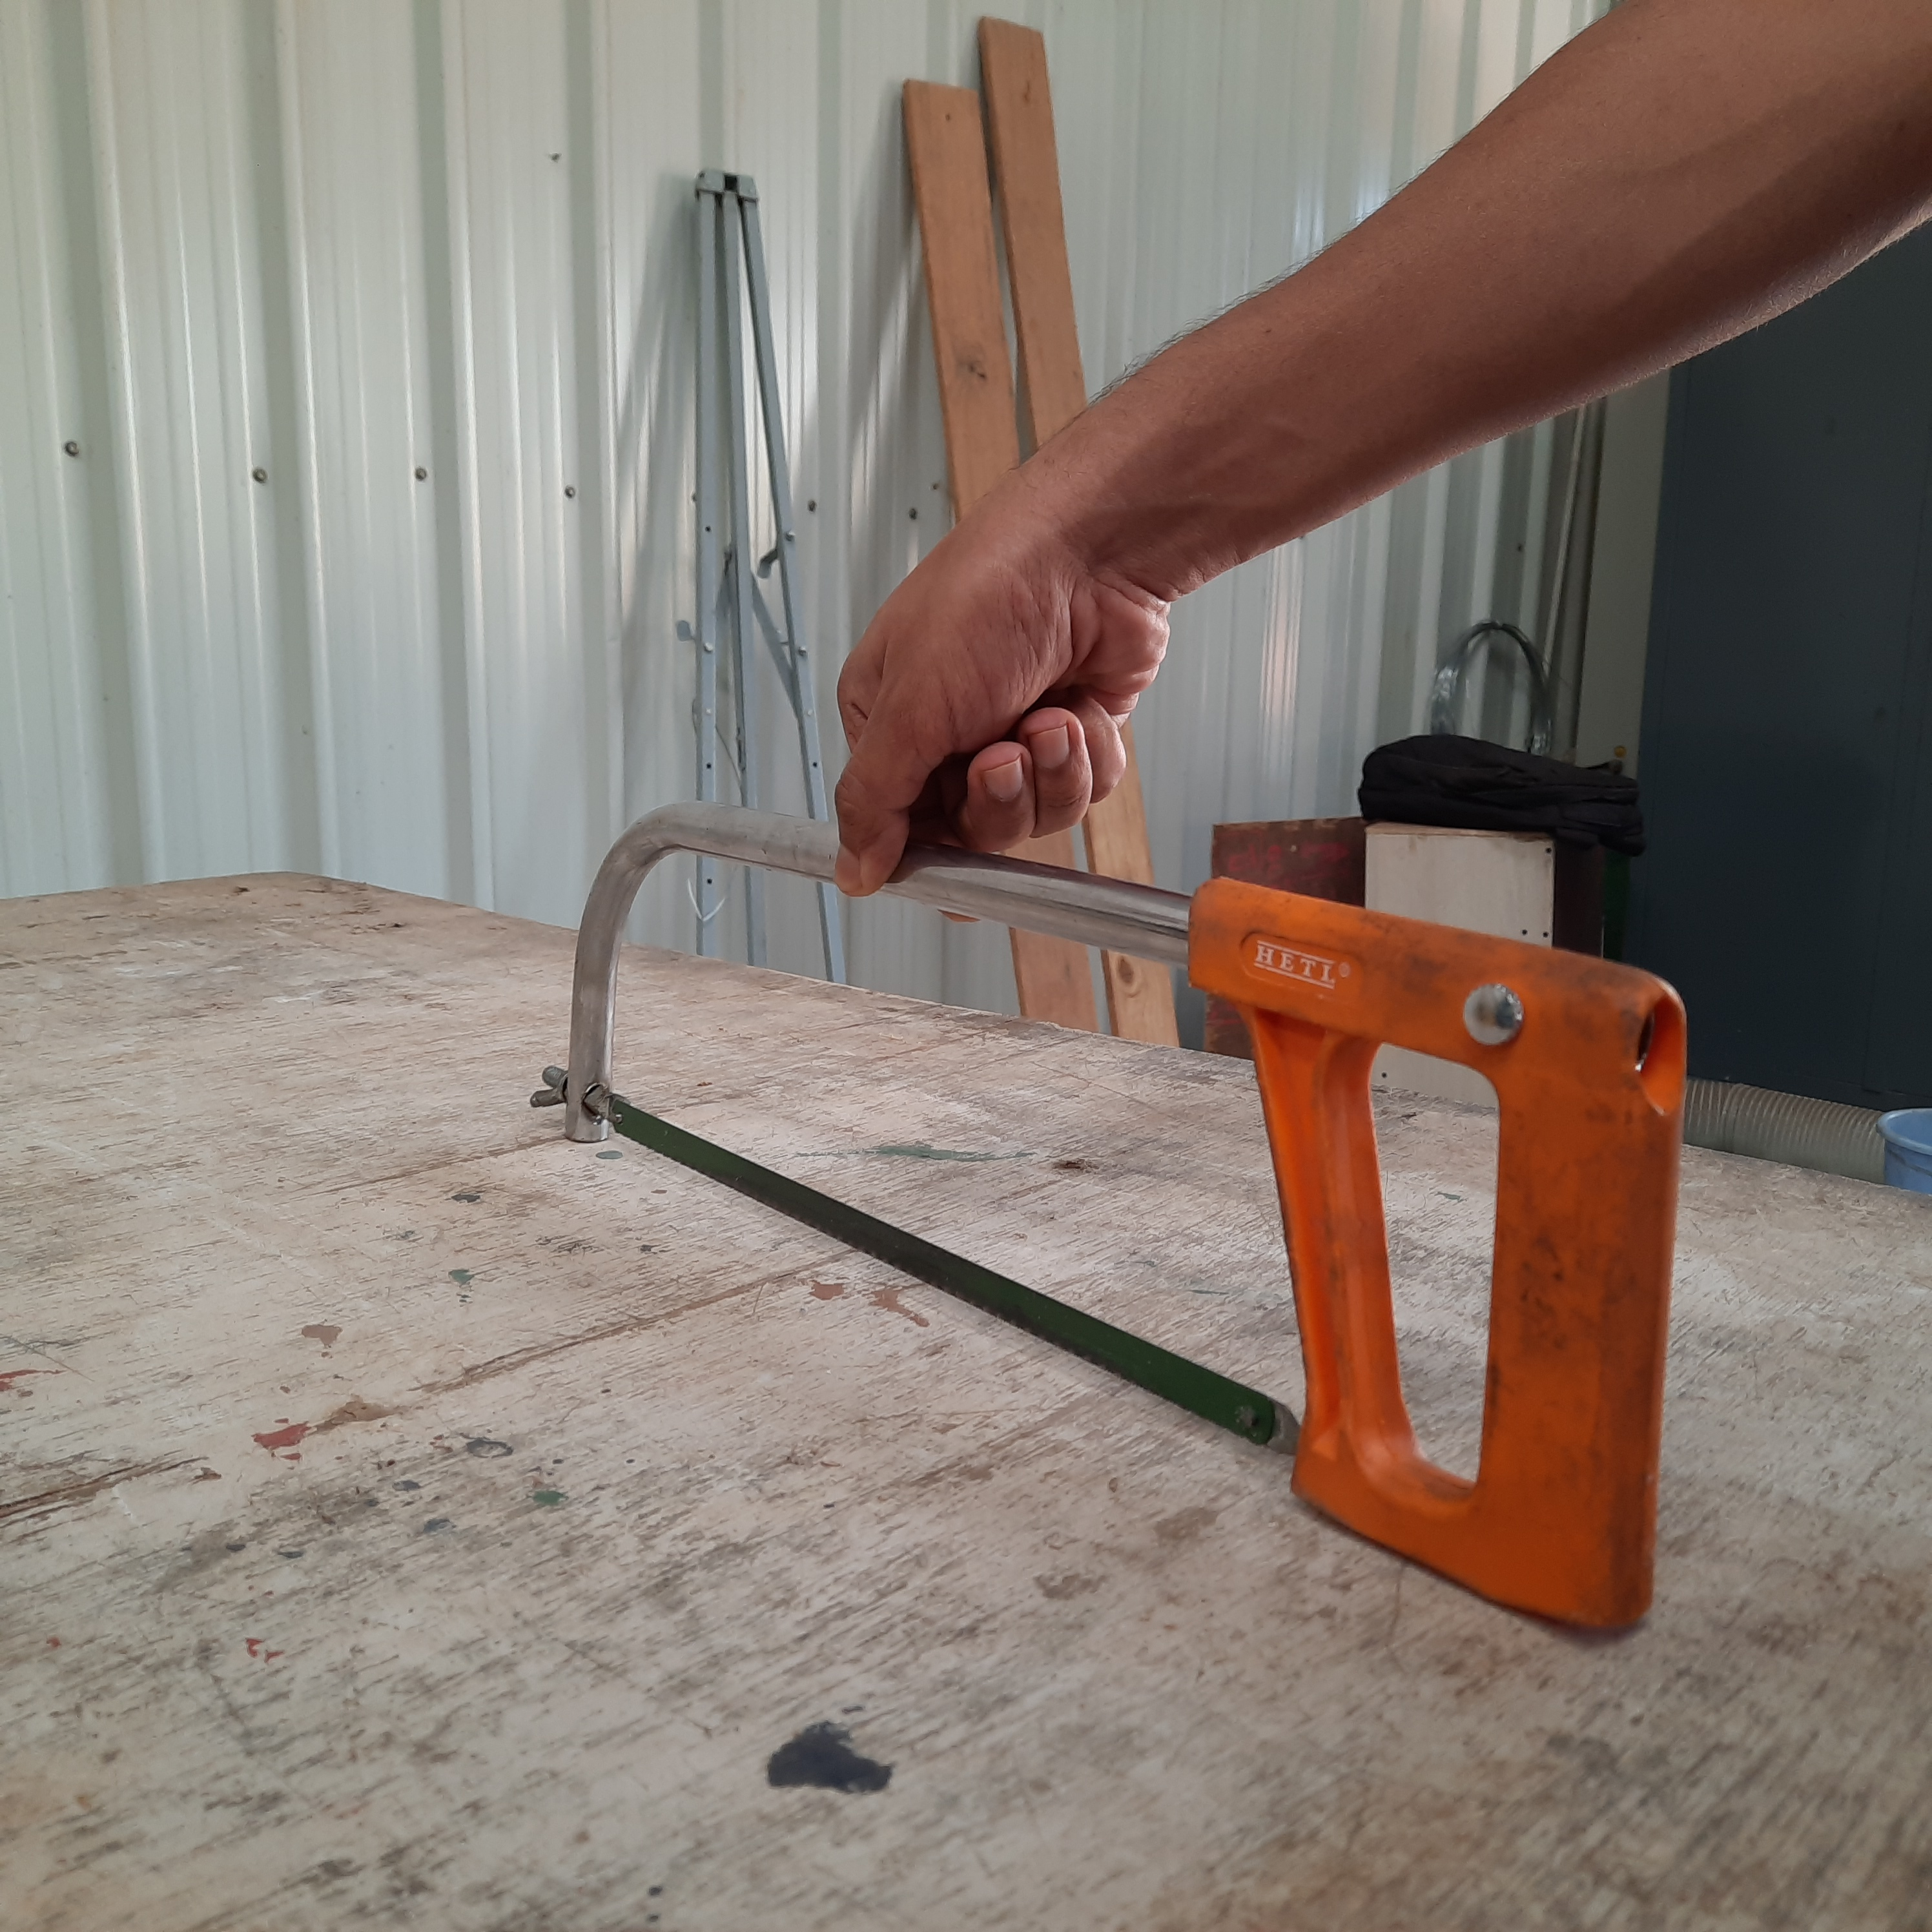Hexaframe: (525, 791, 1679, 1647)
